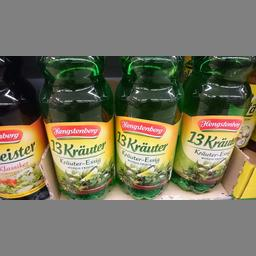vinegar: (38, 56, 116, 199), (170, 54, 248, 188), (114, 56, 180, 199), (0, 57, 48, 200)
